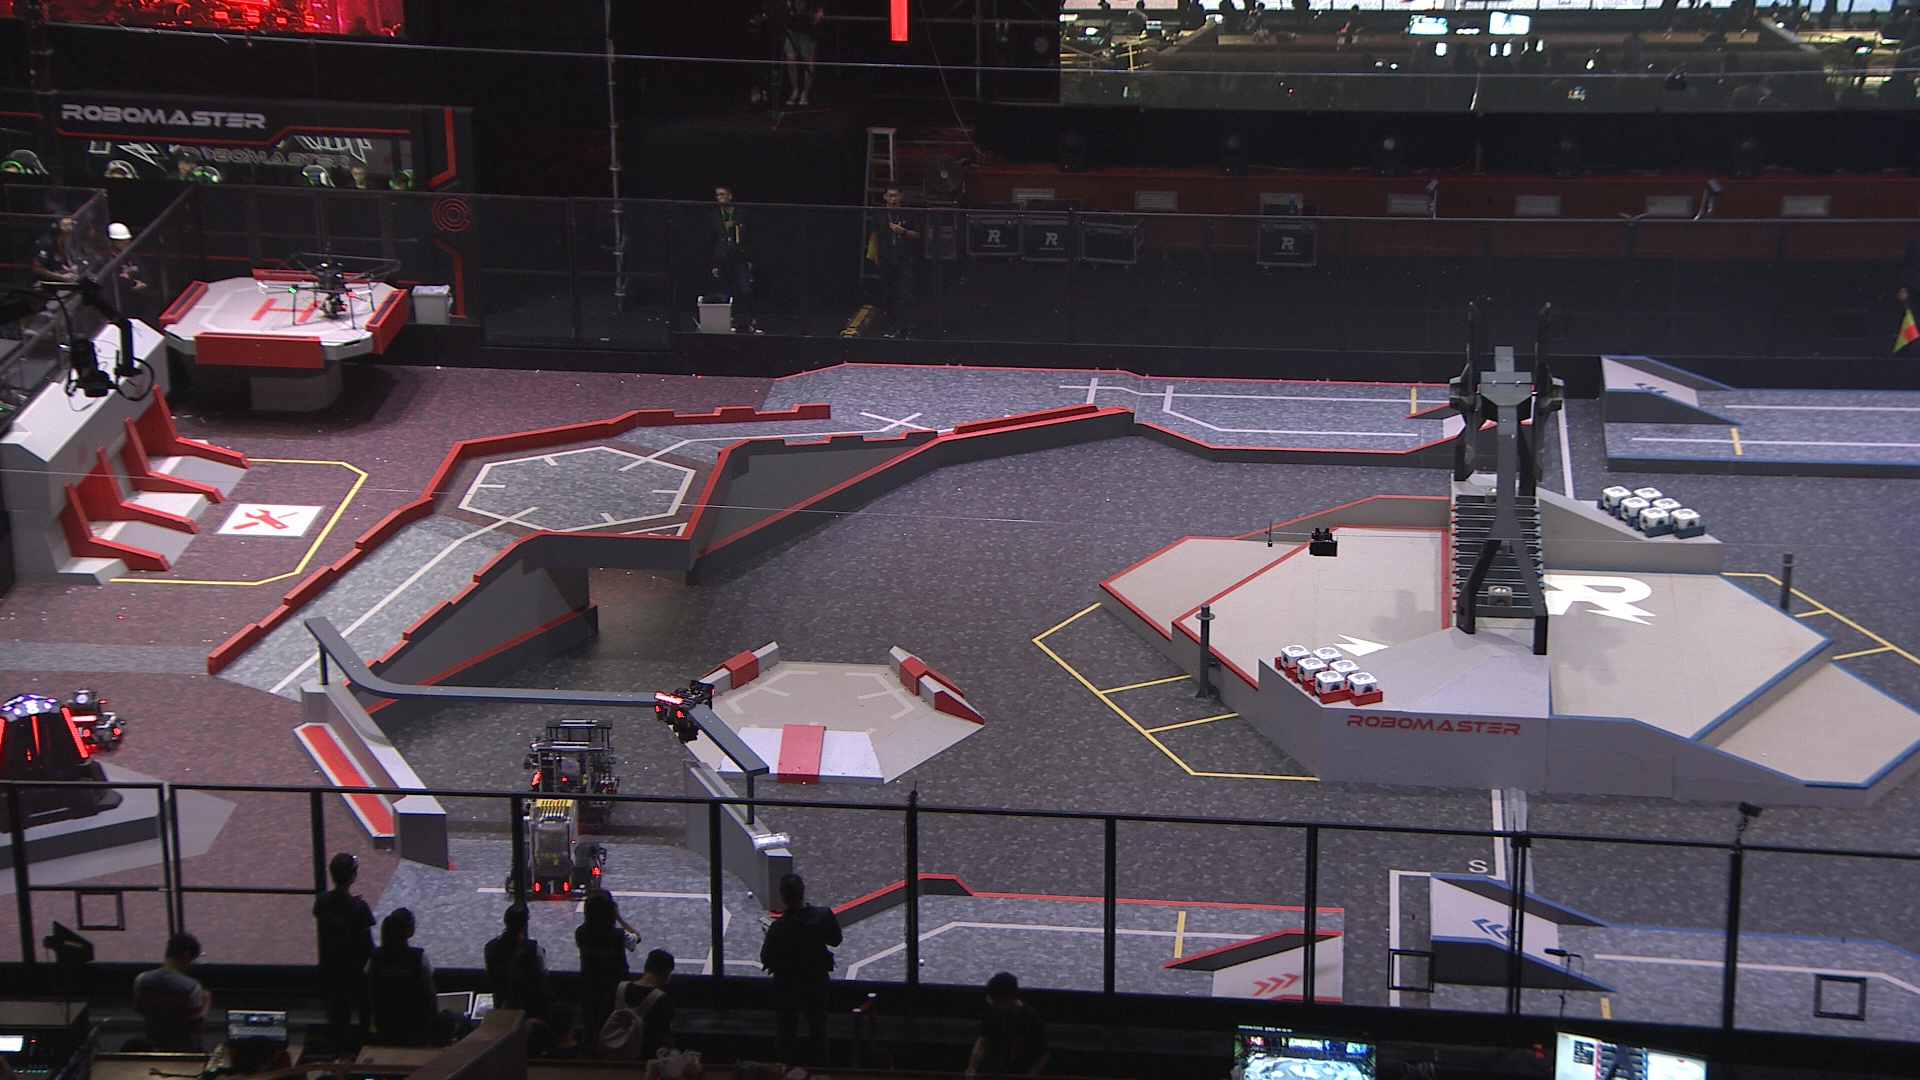armor: (58, 705, 92, 761), (651, 700, 686, 723), (531, 880, 572, 897), (26, 713, 44, 754), (589, 851, 607, 878), (107, 719, 125, 737), (69, 725, 92, 738)
car: (502, 790, 612, 902), (520, 716, 622, 822), (46, 684, 129, 754)
ignore: (7, 695, 51, 716), (1, 694, 26, 711), (26, 692, 55, 705)
watcher: (647, 671, 717, 746)
